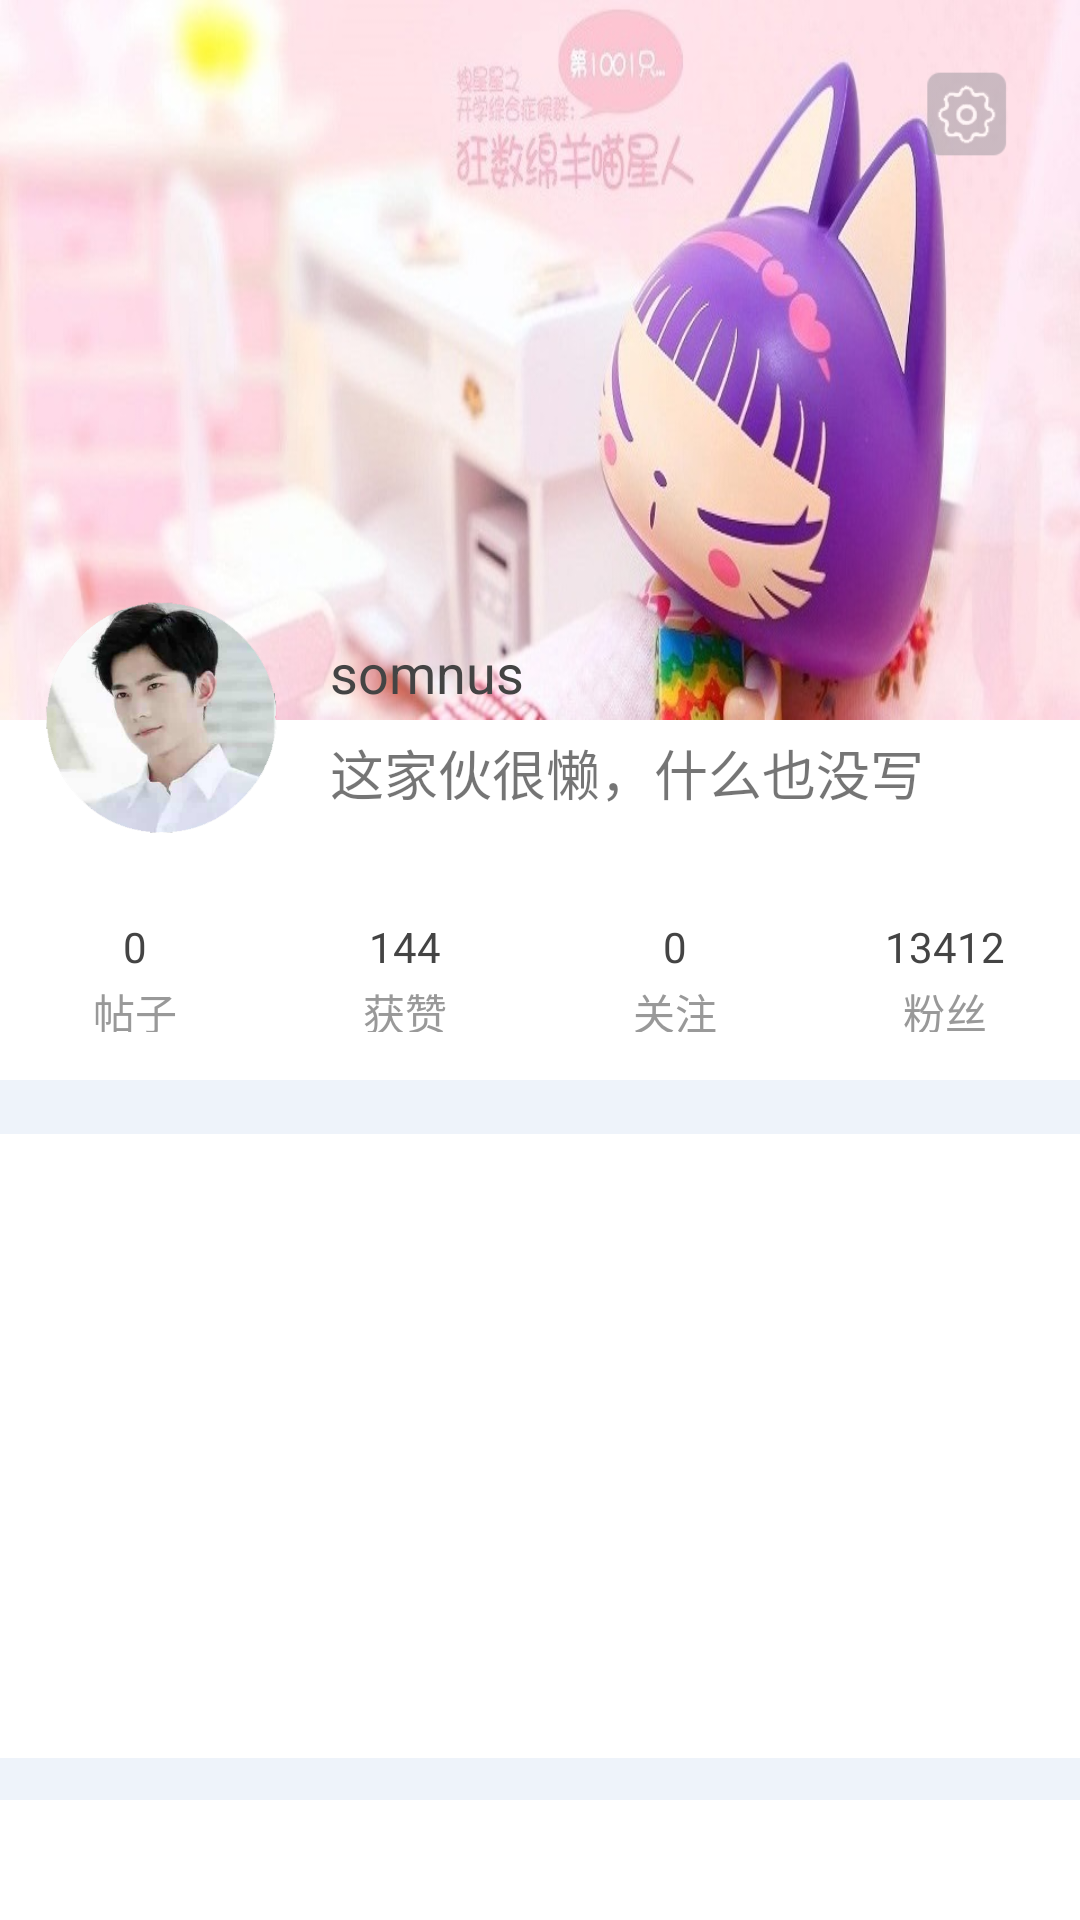

Named icons in this screenshot (1080w x 1920h) and their centers, (x=x, y=y):
me settting: (x=959, y=120)
